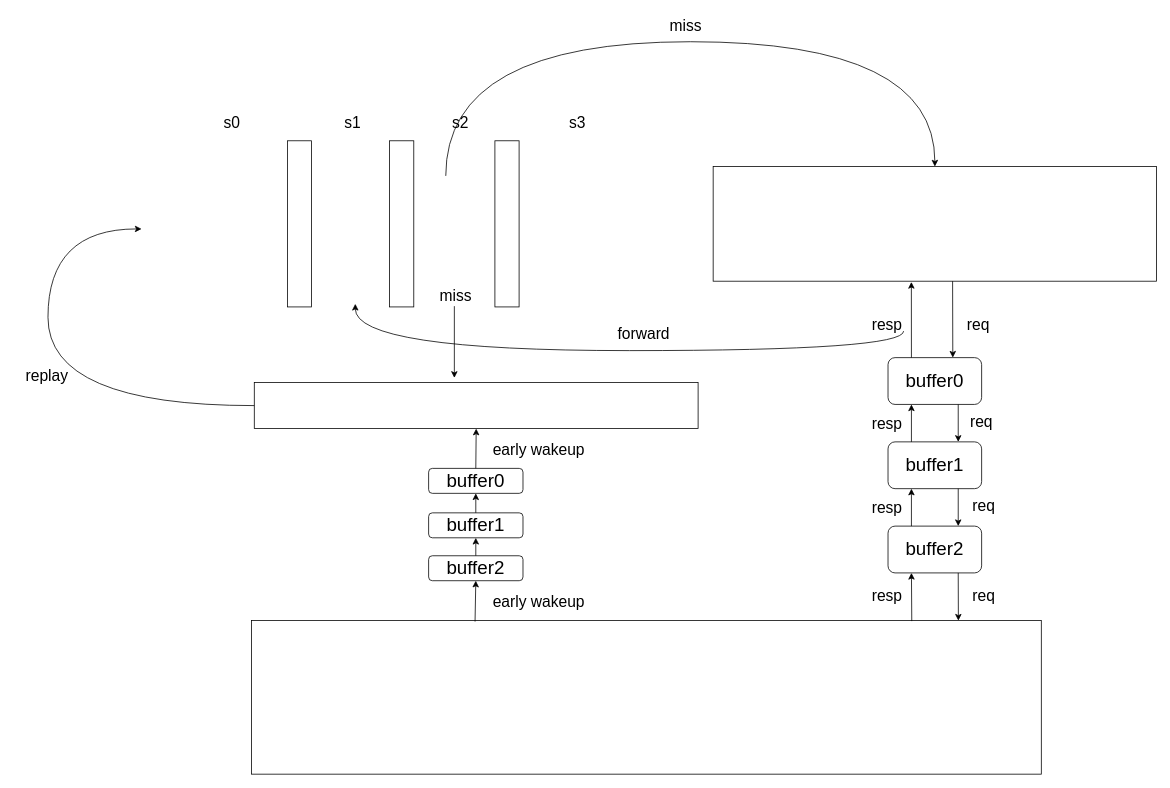
The diagram is 1170 pixels wide and 788 high, and some of its shapes have lost their labels. The shapes that lost their labels are listed below. From the top down, each one's centre as x and y in pixels, then its label:
(934,223): mshr
(476,405): replay queue
(646,697): L2 cacche
